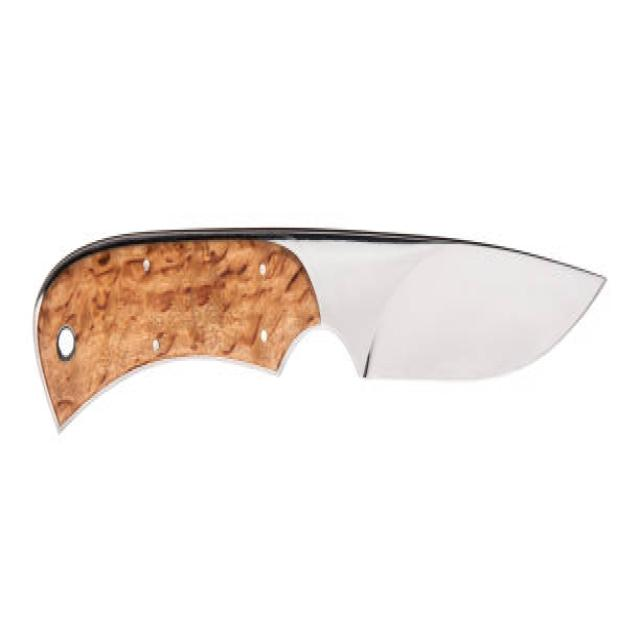knife: (34, 224, 612, 446)
